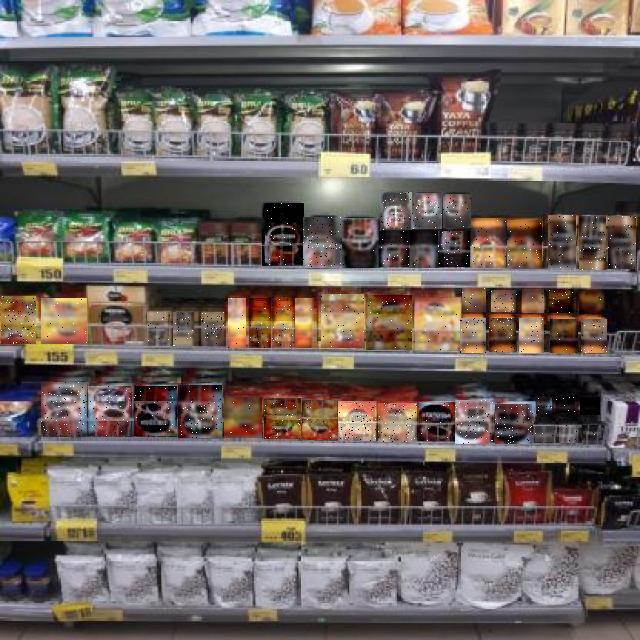Coffee: (262, 203, 304, 266), (366, 295, 412, 350), (41, 382, 87, 436), (415, 298, 460, 350), (178, 385, 222, 438), (321, 294, 364, 348), (88, 386, 132, 436), (134, 386, 177, 436), (41, 299, 87, 345), (304, 217, 342, 268), (342, 218, 380, 268), (471, 218, 506, 268), (507, 220, 542, 269), (1, 296, 36, 344), (456, 401, 494, 445), (224, 398, 262, 440), (378, 403, 417, 442), (339, 401, 377, 441), (496, 404, 534, 444), (264, 398, 301, 439), (549, 216, 577, 270), (609, 216, 637, 269), (579, 216, 606, 270), (302, 400, 338, 440), (419, 402, 455, 441), (380, 192, 412, 230), (438, 231, 470, 267), (249, 298, 271, 348), (272, 299, 294, 349), (412, 193, 442, 229), (379, 231, 409, 267), (410, 230, 438, 268), (296, 298, 316, 348), (443, 194, 471, 228), (550, 319, 578, 353), (489, 319, 516, 353), (460, 318, 486, 353), (520, 318, 546, 353), (229, 298, 247, 348), (581, 319, 607, 353), (147, 311, 170, 347), (174, 312, 198, 346), (201, 312, 224, 346), (550, 289, 576, 313), (462, 288, 486, 312), (579, 291, 604, 314), (492, 290, 518, 312), (522, 289, 544, 313), (582, 426, 606, 444), (580, 397, 600, 415), (560, 425, 578, 443), (556, 396, 575, 413), (535, 427, 554, 443), (537, 398, 553, 414)
